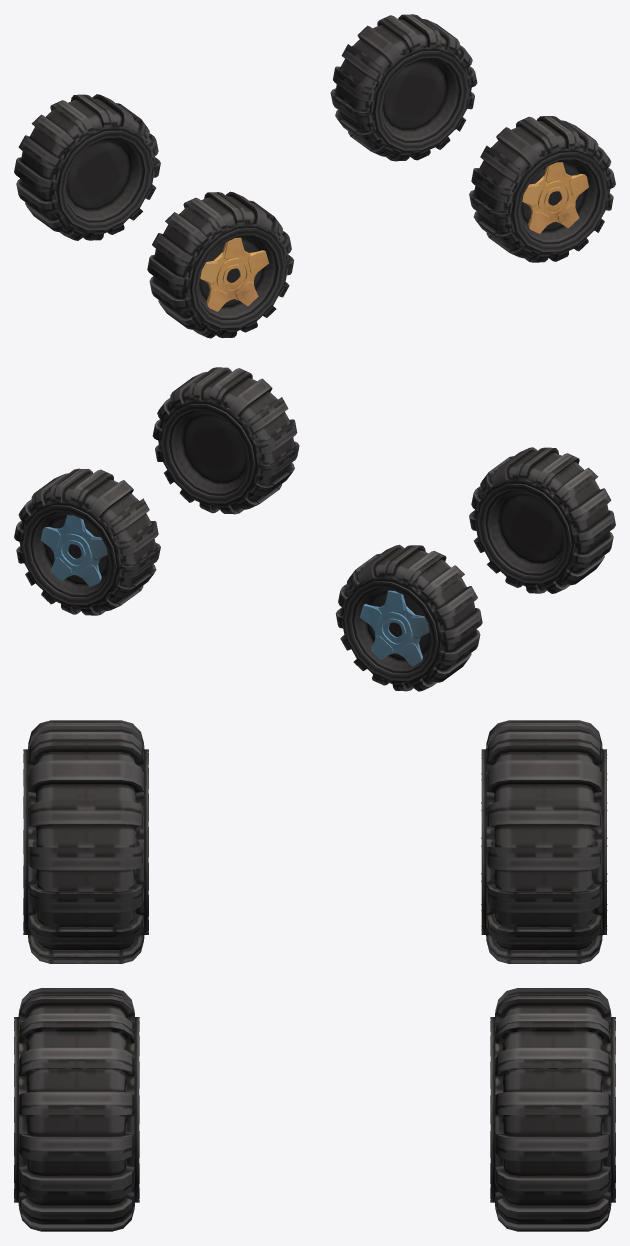
File: tekerlek.fbx
3 views of the same model, one above another, from view 1: azimuth 30°, elevation 25°; view 2: azimuth 150°, elevation 25°; view 3: azimuth 270°, elevation 25° (orthographic). The views are drawn at different scales.
Visible parts, largest first — view 1: sag_arka_tekerlek.003, sol_arka_tekerlek.001, sağ_ön_tekerlek.002, sol_ön_tekerlek; view 2: sol_ön_tekerlek, sağ_ön_tekerlek.002, sag_arka_tekerlek.003, sol_arka_tekerlek.001; view 3: sağ_ön_tekerlek.002, sol_ön_tekerlek, sag_arka_tekerlek.003, sol_arka_tekerlek.001.
Part boxes in pixels (x1,y1,x2,y2): sag_arka_tekerlek.003: [330, 14, 477, 161]; sol_arka_tekerlek.001: [469, 116, 615, 262]; sağ_ön_tekerlek.002: [14, 94, 160, 240]; sol_ön_tekerlek: [147, 191, 293, 338]; sol_ön_tekerlek: [469, 447, 615, 593]; sağ_ön_tekerlek.002: [335, 544, 482, 691]; sag_arka_tekerlek.003: [14, 468, 160, 615]; sol_arka_tekerlek.001: [152, 367, 299, 514]; sağ_ön_tekerlek.002: [481, 720, 607, 963]; sol_ön_tekerlek: [23, 720, 148, 963]; sag_arka_tekerlek.003: [490, 988, 615, 1231]; sol_arka_tekerlek.001: [14, 988, 139, 1231].
Bounding box in the file's own units: 485 × 135 × 333.
